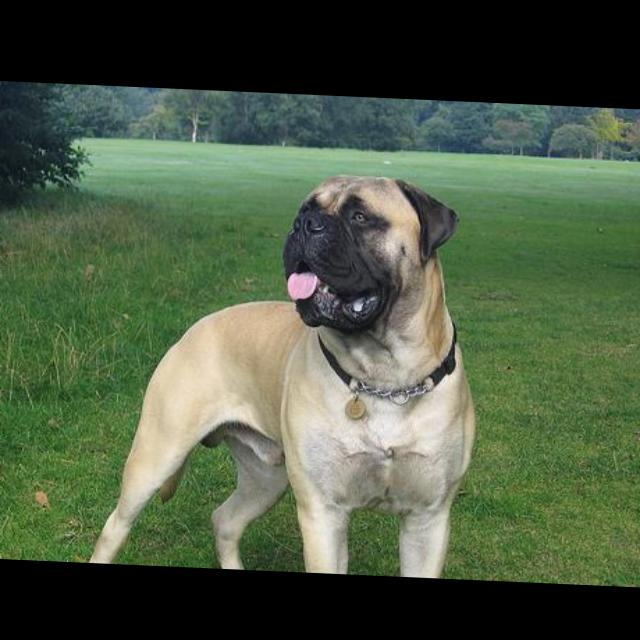bullmastiff: (70, 161, 479, 578)
